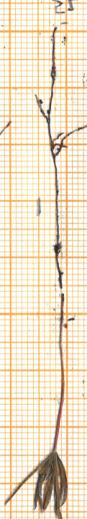flower: (0, 448, 87, 519)
root: (30, 0, 87, 321)
stem: (47, 318, 70, 450)
